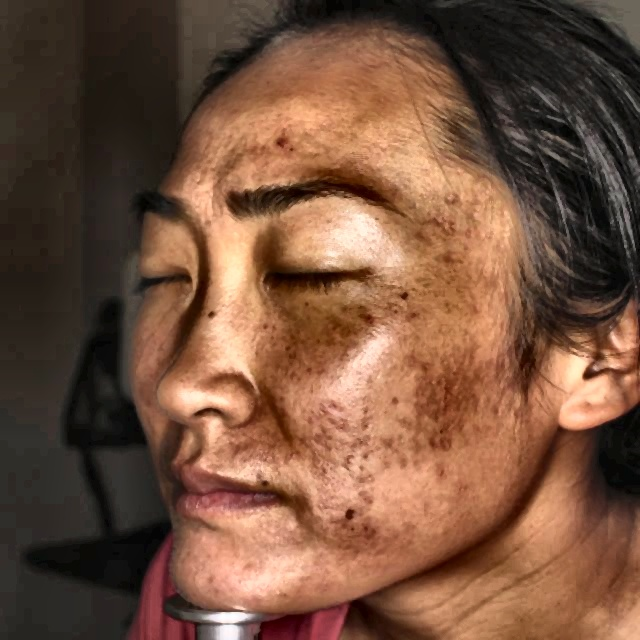papule: (208, 564, 229, 602), (267, 126, 293, 154), (348, 525, 378, 547), (494, 352, 520, 374), (314, 397, 338, 418), (407, 360, 432, 380), (429, 434, 450, 456), (434, 463, 454, 485), (317, 438, 341, 456), (399, 445, 417, 467), (491, 405, 506, 424)
